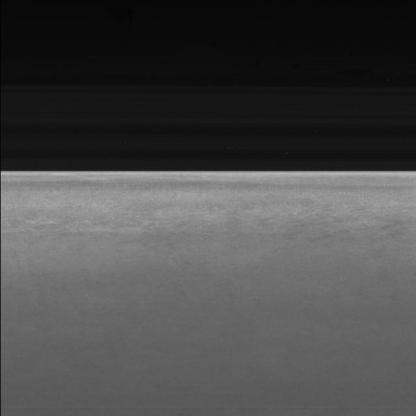silk_spot: (61, 205, 335, 254)
